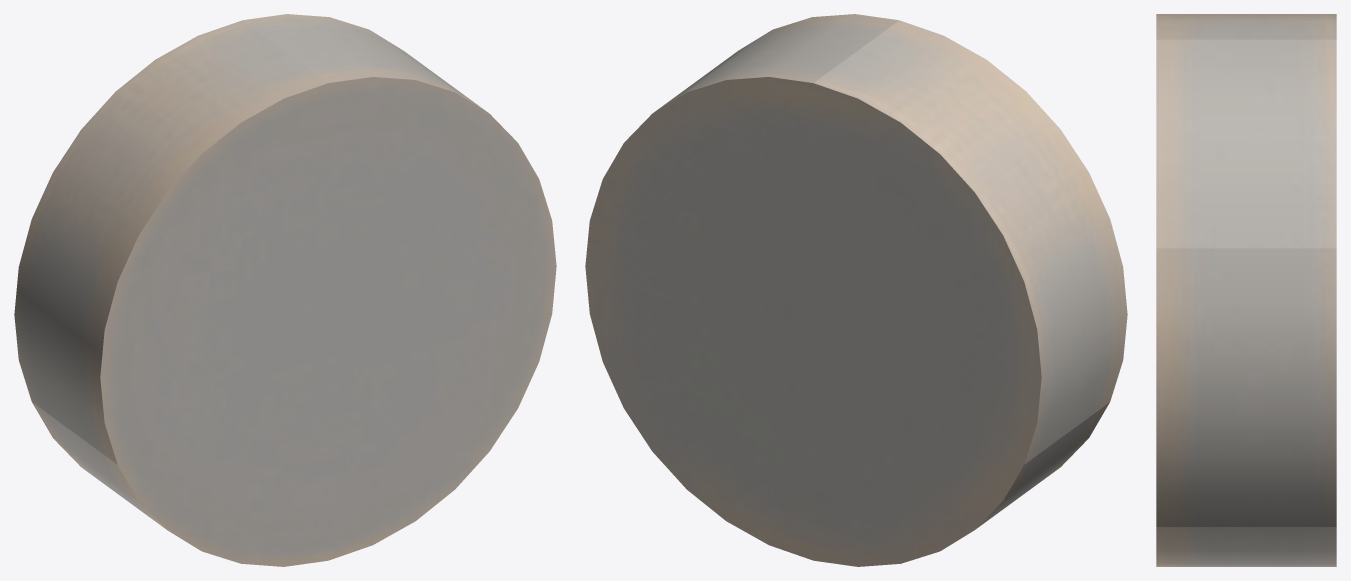
The model's file is machine_body__upper_collar.glb.
3 renders of one model, left to right at view 1: azimuth 30°, elevation 25°; view 2: azimuth 150°, elevation 25°; view 3: azimuth 270°, elevation 25°, orthographic. The views are drawn at different scales.
Parts seen in each view (by area): view 1: geometry_0; view 2: geometry_0; view 3: geometry_0.
Boxes of the visible parts, x1=… form: geometry_0: x1=14, y1=14, x2=556, y2=566; geometry_0: x1=585, y1=14, x2=1127, y2=566; geometry_0: x1=1156, y1=14, x2=1336, y2=566.
Bounding box in the file's own units: 0.184 × 0.184 × 0.06.
1 material, 1 textured.
